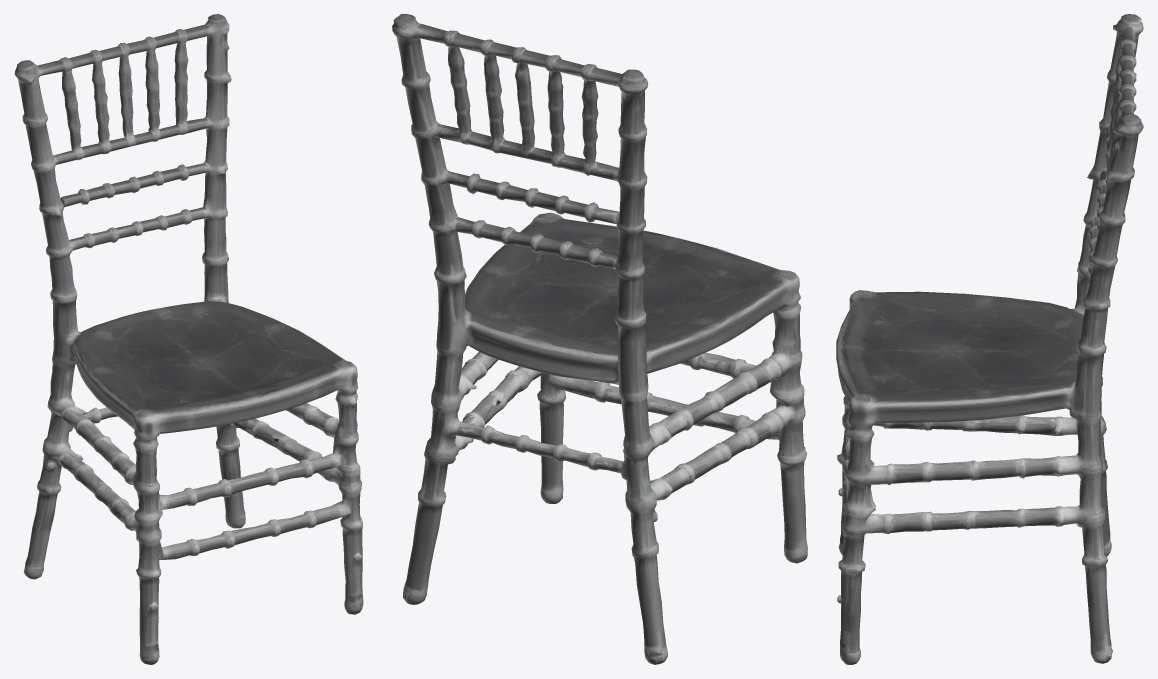
File: Chair_Chiavari_Cryst_0320032054_texture.glb
The picture shows the model from 3 angles, left to right: view 1: azimuth 30°, elevation 25°; view 2: azimuth 150°, elevation 25°; view 3: azimuth 270°, elevation 25°; orthographic projection. The views are drawn at different scales.
Parts seen in each view (by area): view 1: Mesh_0.007; view 2: Mesh_0.007; view 3: Mesh_0.007.
Part boxes in pixels (left/top/right/bottom): Mesh_0.007: left=14, top=14, right=363, bottom=664; Mesh_0.007: left=392, top=14, right=807, bottom=664; Mesh_0.007: left=836, top=14, right=1143, bottom=664.
Size of the model in its own units: 0.4225 by 0.9144 by 0.4675.
1 material, 1 textured.
